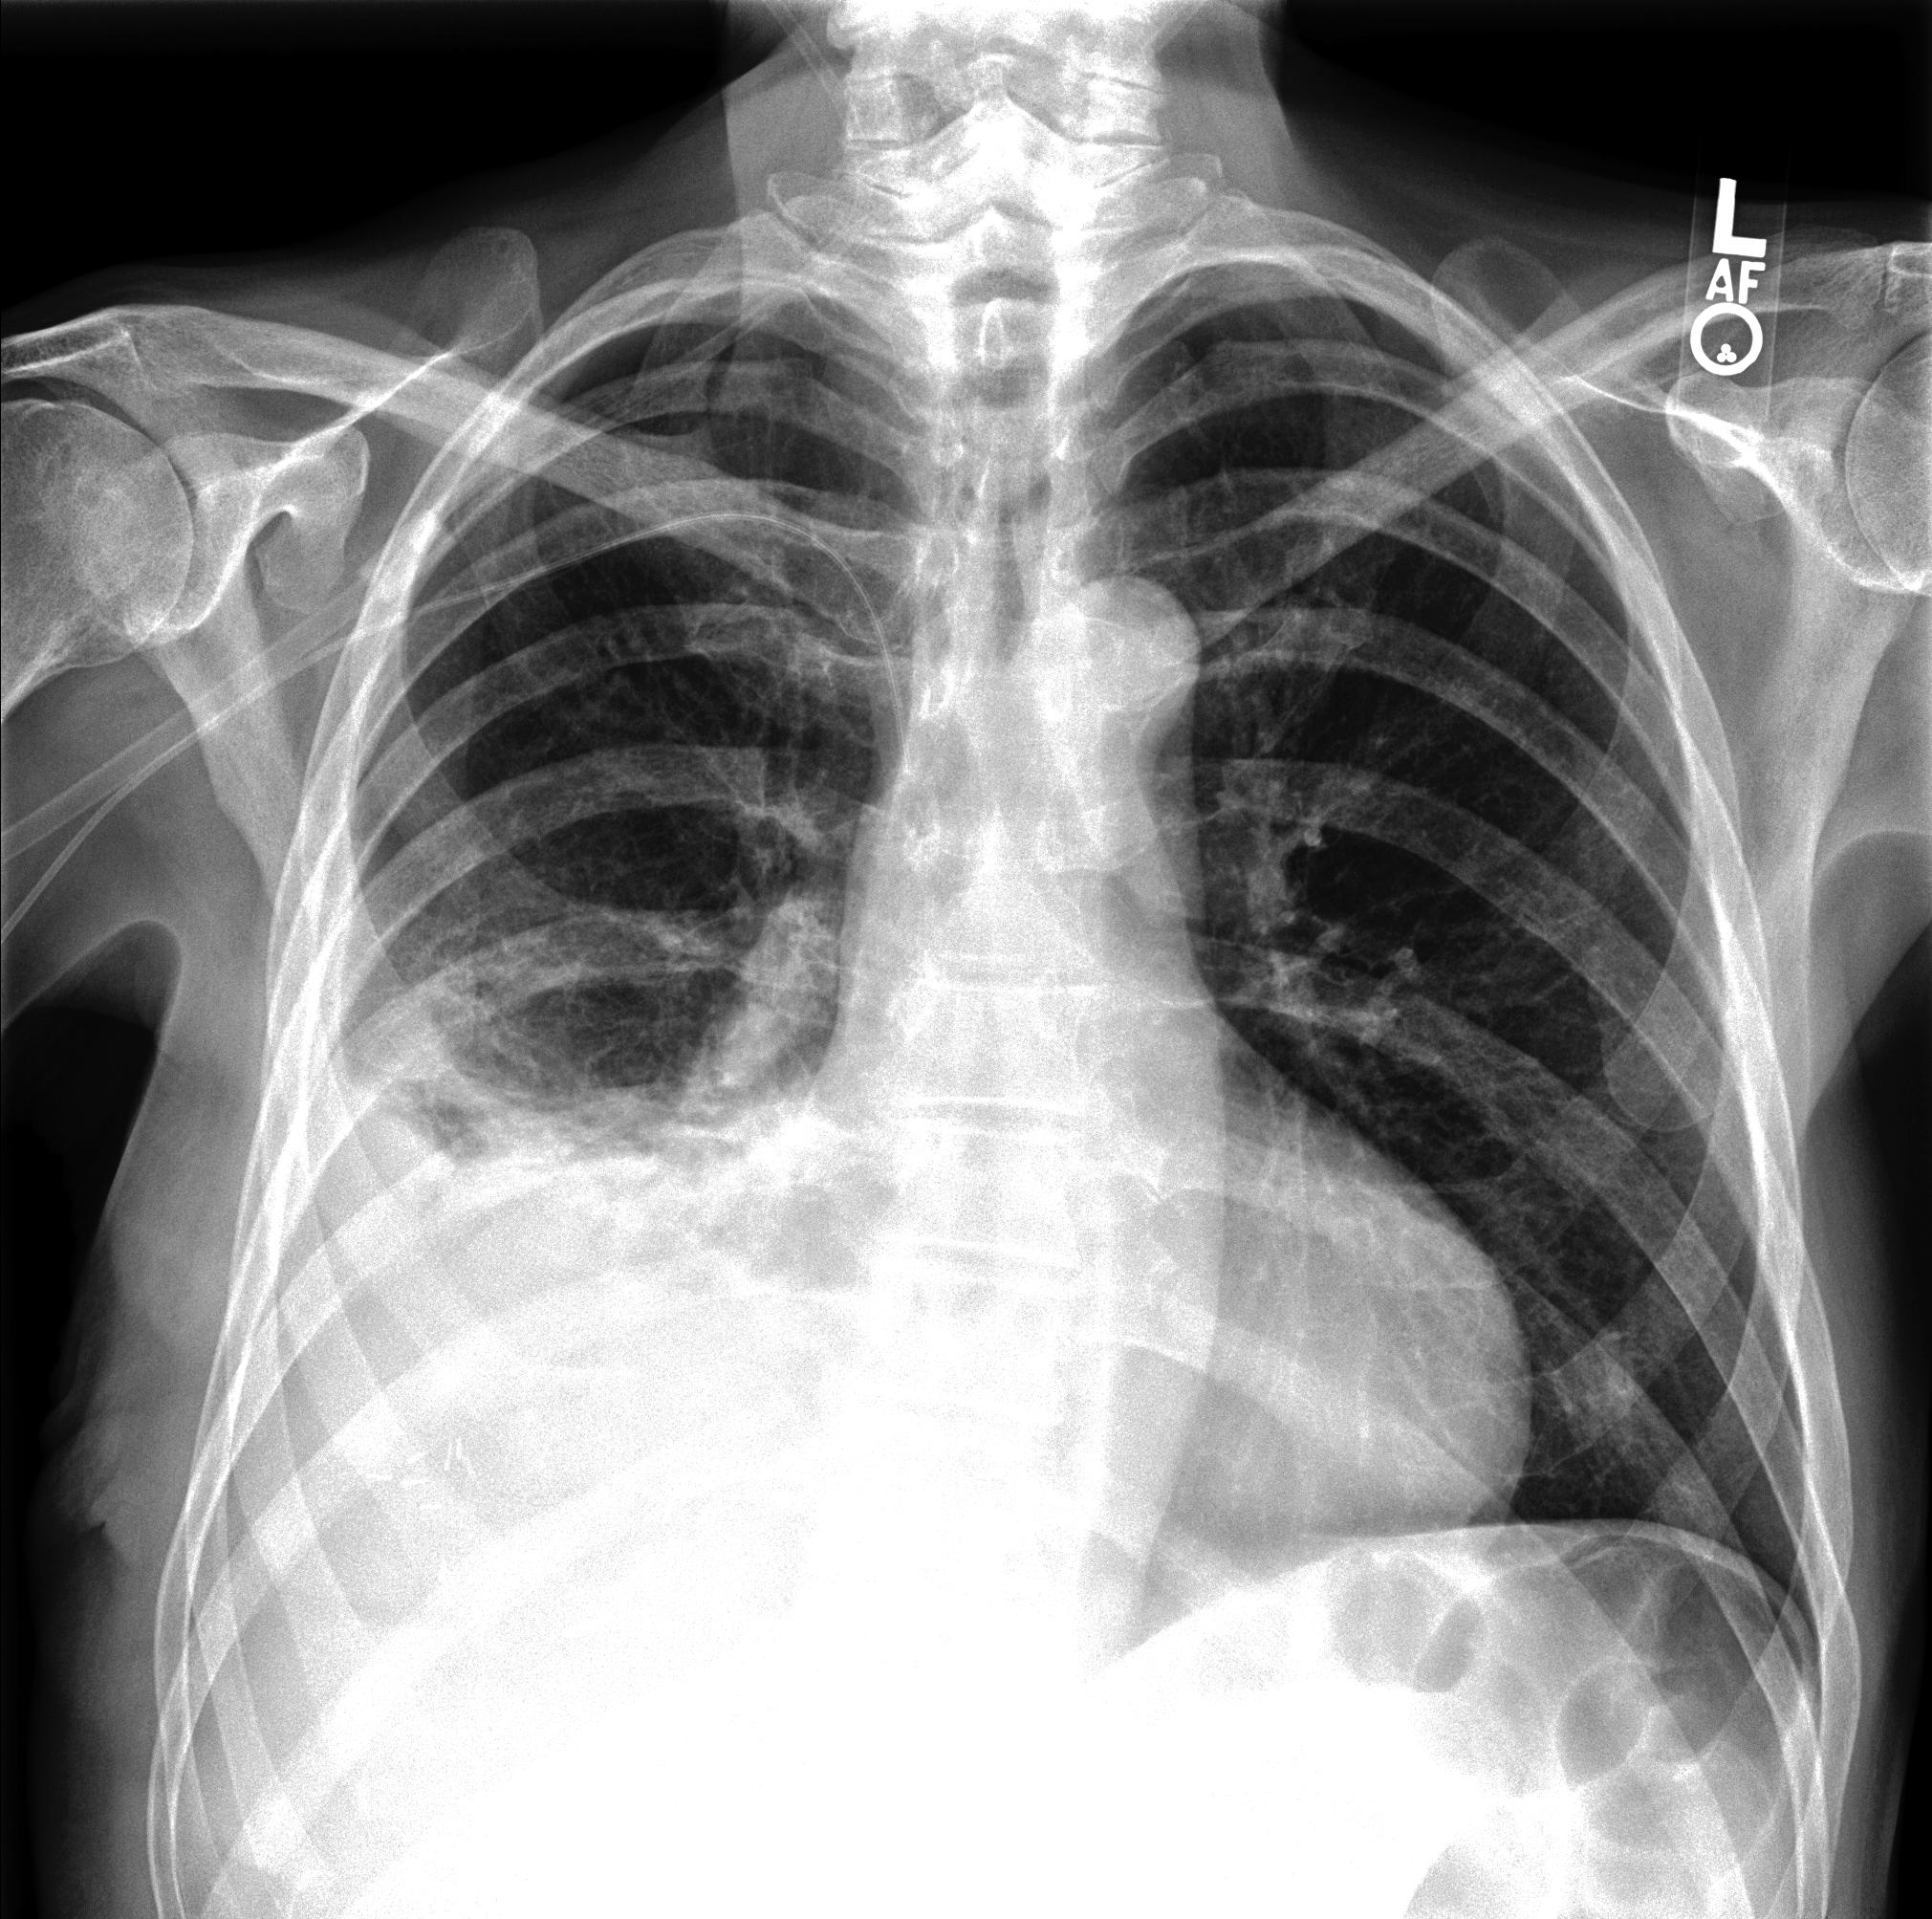Pleural Effusion: (228, 1083, 680, 1668)
